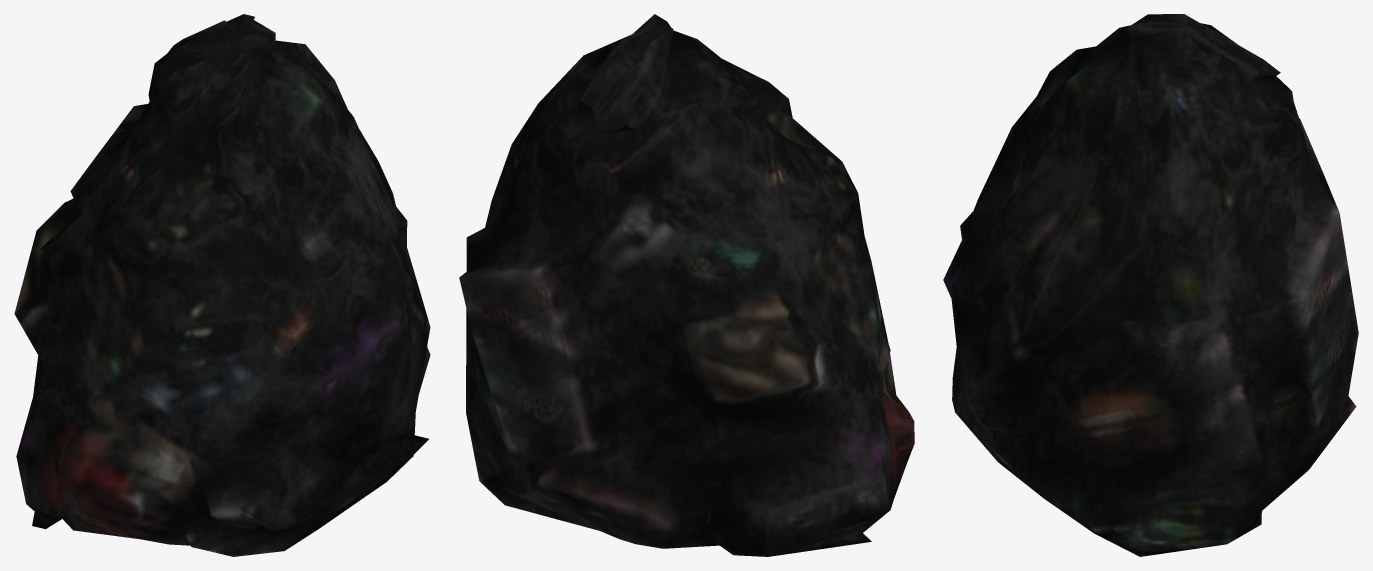
File: trashbag.glb
3 renders of one model, left to right at view 1: azimuth 30°, elevation 25°; view 2: azimuth 150°, elevation 25°; view 3: azimuth 270°, elevation 25°, orthographic. The views are drawn at different scales.
Parts seen in each view (by area): view 1: trashbag; view 2: trashbag; view 3: trashbag.
Boxes of the visible parts, box(x1,y1,x2,y2) form: trashbag: box(14, 14, 430, 556); trashbag: box(459, 14, 914, 556); trashbag: box(943, 14, 1358, 556).
Size of the model in its own units: 0.5186 by 0.5684 by 0.4629.
Materials: 1 (1 with a texture image).
